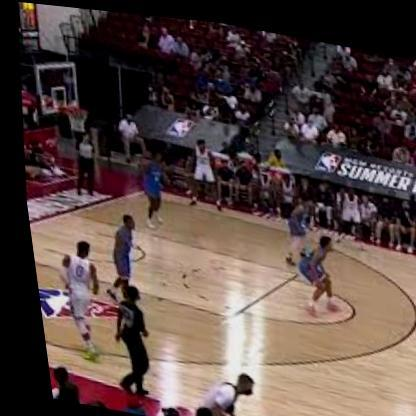rim: (63, 103, 87, 118)
